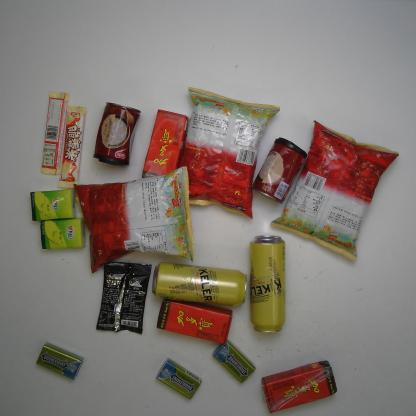Alcohol: (150, 260, 249, 308), (248, 234, 287, 334)
Canned Food: (249, 136, 309, 203), (92, 100, 142, 167)
Chocolate: (40, 90, 70, 176), (58, 105, 87, 189)
Drink: (259, 360, 338, 414), (156, 298, 234, 346), (141, 108, 189, 182)
Gum: (155, 357, 203, 400), (212, 339, 256, 384), (35, 342, 84, 380)
Instant Drink: (94, 260, 152, 335)
Puffed Food: (270, 117, 401, 264), (176, 86, 282, 221), (72, 164, 196, 274)
Tissue: (40, 216, 86, 250), (30, 188, 77, 221)
